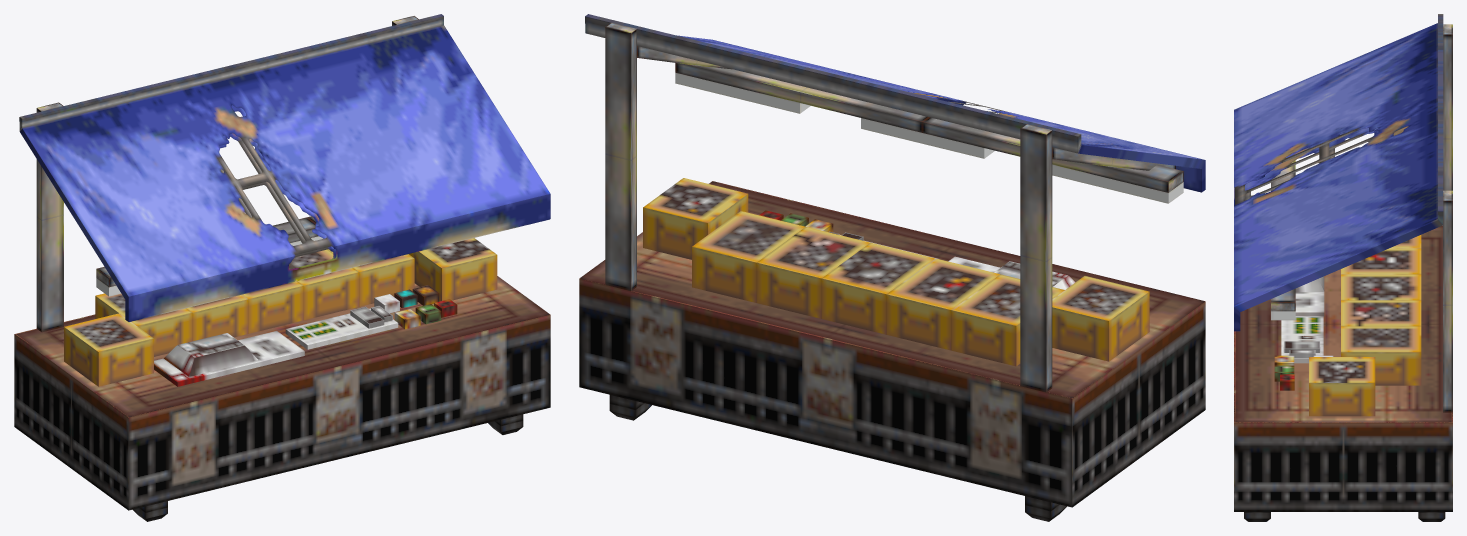
The model's file is Poly_SF_Outside_B_Junk_Stall_01.obj.
3 renders of one model, left to right at view 1: azimuth 30°, elevation 25°; view 2: azimuth 150°, elevation 25°; view 3: azimuth 270°, elevation 25°, orthographic. The views are drawn at different scales.
Visible parts, largest first — view 1: Cube.002, Cube.008, Cube.001, Cube.004, Cube.005, Cube.006, Cube.007; view 2: Cube.008, Cube.001, Cube.004, Cube.002, Cube.005, Cube.003, Cube.007, Cube.006; view 3: Cube.002, Cube.008, Cube.001, Cube.004, Cube.005, Cube.006, Cube.007.
Boxes of the visible parts, x1,y1,x2,y2 form: Cube.002: (19, 14, 550, 321); Cube.008: (14, 278, 550, 510); Cube.001: (16, 16, 549, 416); Cube.004: (95, 249, 414, 386); Cube.005: (64, 238, 497, 386); Cube.006: (285, 285, 457, 349); Cube.007: (133, 414, 523, 521); Cube.008: (579, 181, 1205, 507); Cube.001: (580, 22, 1204, 398); Cube.004: (692, 211, 1075, 366); Cube.002: (585, 14, 1205, 192); Cube.005: (643, 178, 1149, 361); Cube.003: (675, 72, 1183, 203); Cube.007: (609, 395, 1066, 521); Cube.006: (759, 210, 937, 258); Cube.002: (1234, 14, 1443, 331); Cube.008: (1234, 331, 1452, 511); Cube.001: (1234, 24, 1452, 422); Cube.004: (1295, 235, 1421, 385); Cube.005: (1309, 357, 1375, 416); Cube.006: (1274, 316, 1333, 390); Cube.007: (1244, 512, 1445, 521).
Bounding box in the file's own units: 1.9 × 1.45 × 0.89.
Materials: 1 (1 with a texture image).
